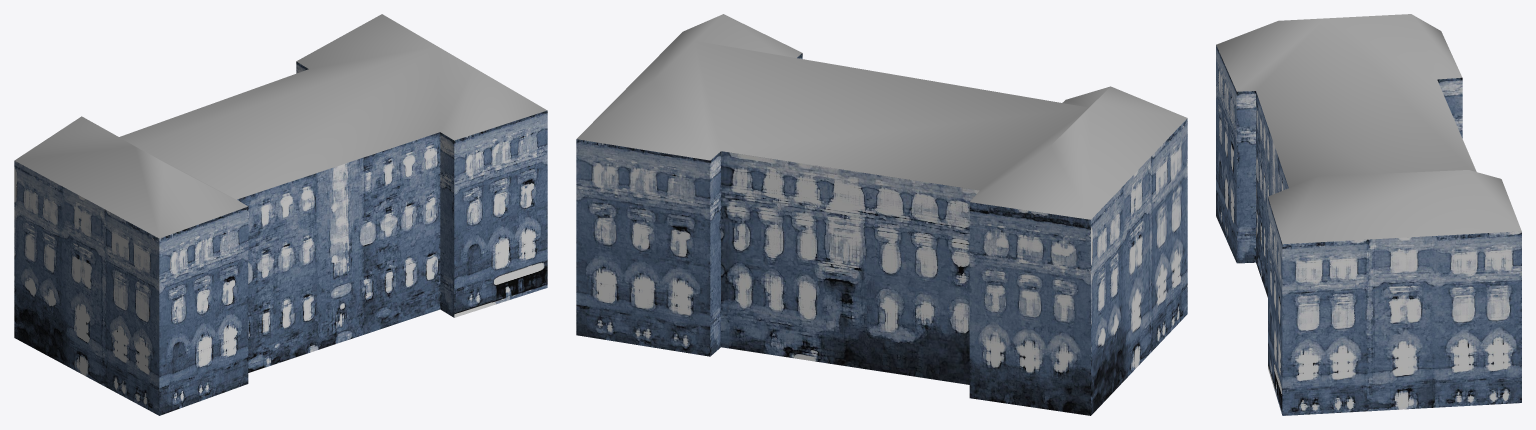
File: Berndt-Bau.gltf
The picture shows the model from 3 angles, left to right: view 1: azimuth 30°, elevation 25°; view 2: azimuth 150°, elevation 25°; view 3: azimuth 270°, elevation 25°; orthographic projection. The views are drawn at different scales.
Visible parts, largest first — view 1: Dach.1; view 2: Dach.1; view 3: Dach.1.
Part boxes in pixels (left/top/right/bottom): Dach.1: left=14, top=14, right=547, bottom=415; Dach.1: left=576, top=14, right=1187, bottom=415; Dach.1: left=1216, top=14, right=1521, bottom=415.
Bounding box in the file's own units: 47.92 × 22.36 × 29.03.
10 materials, 9 textured.
